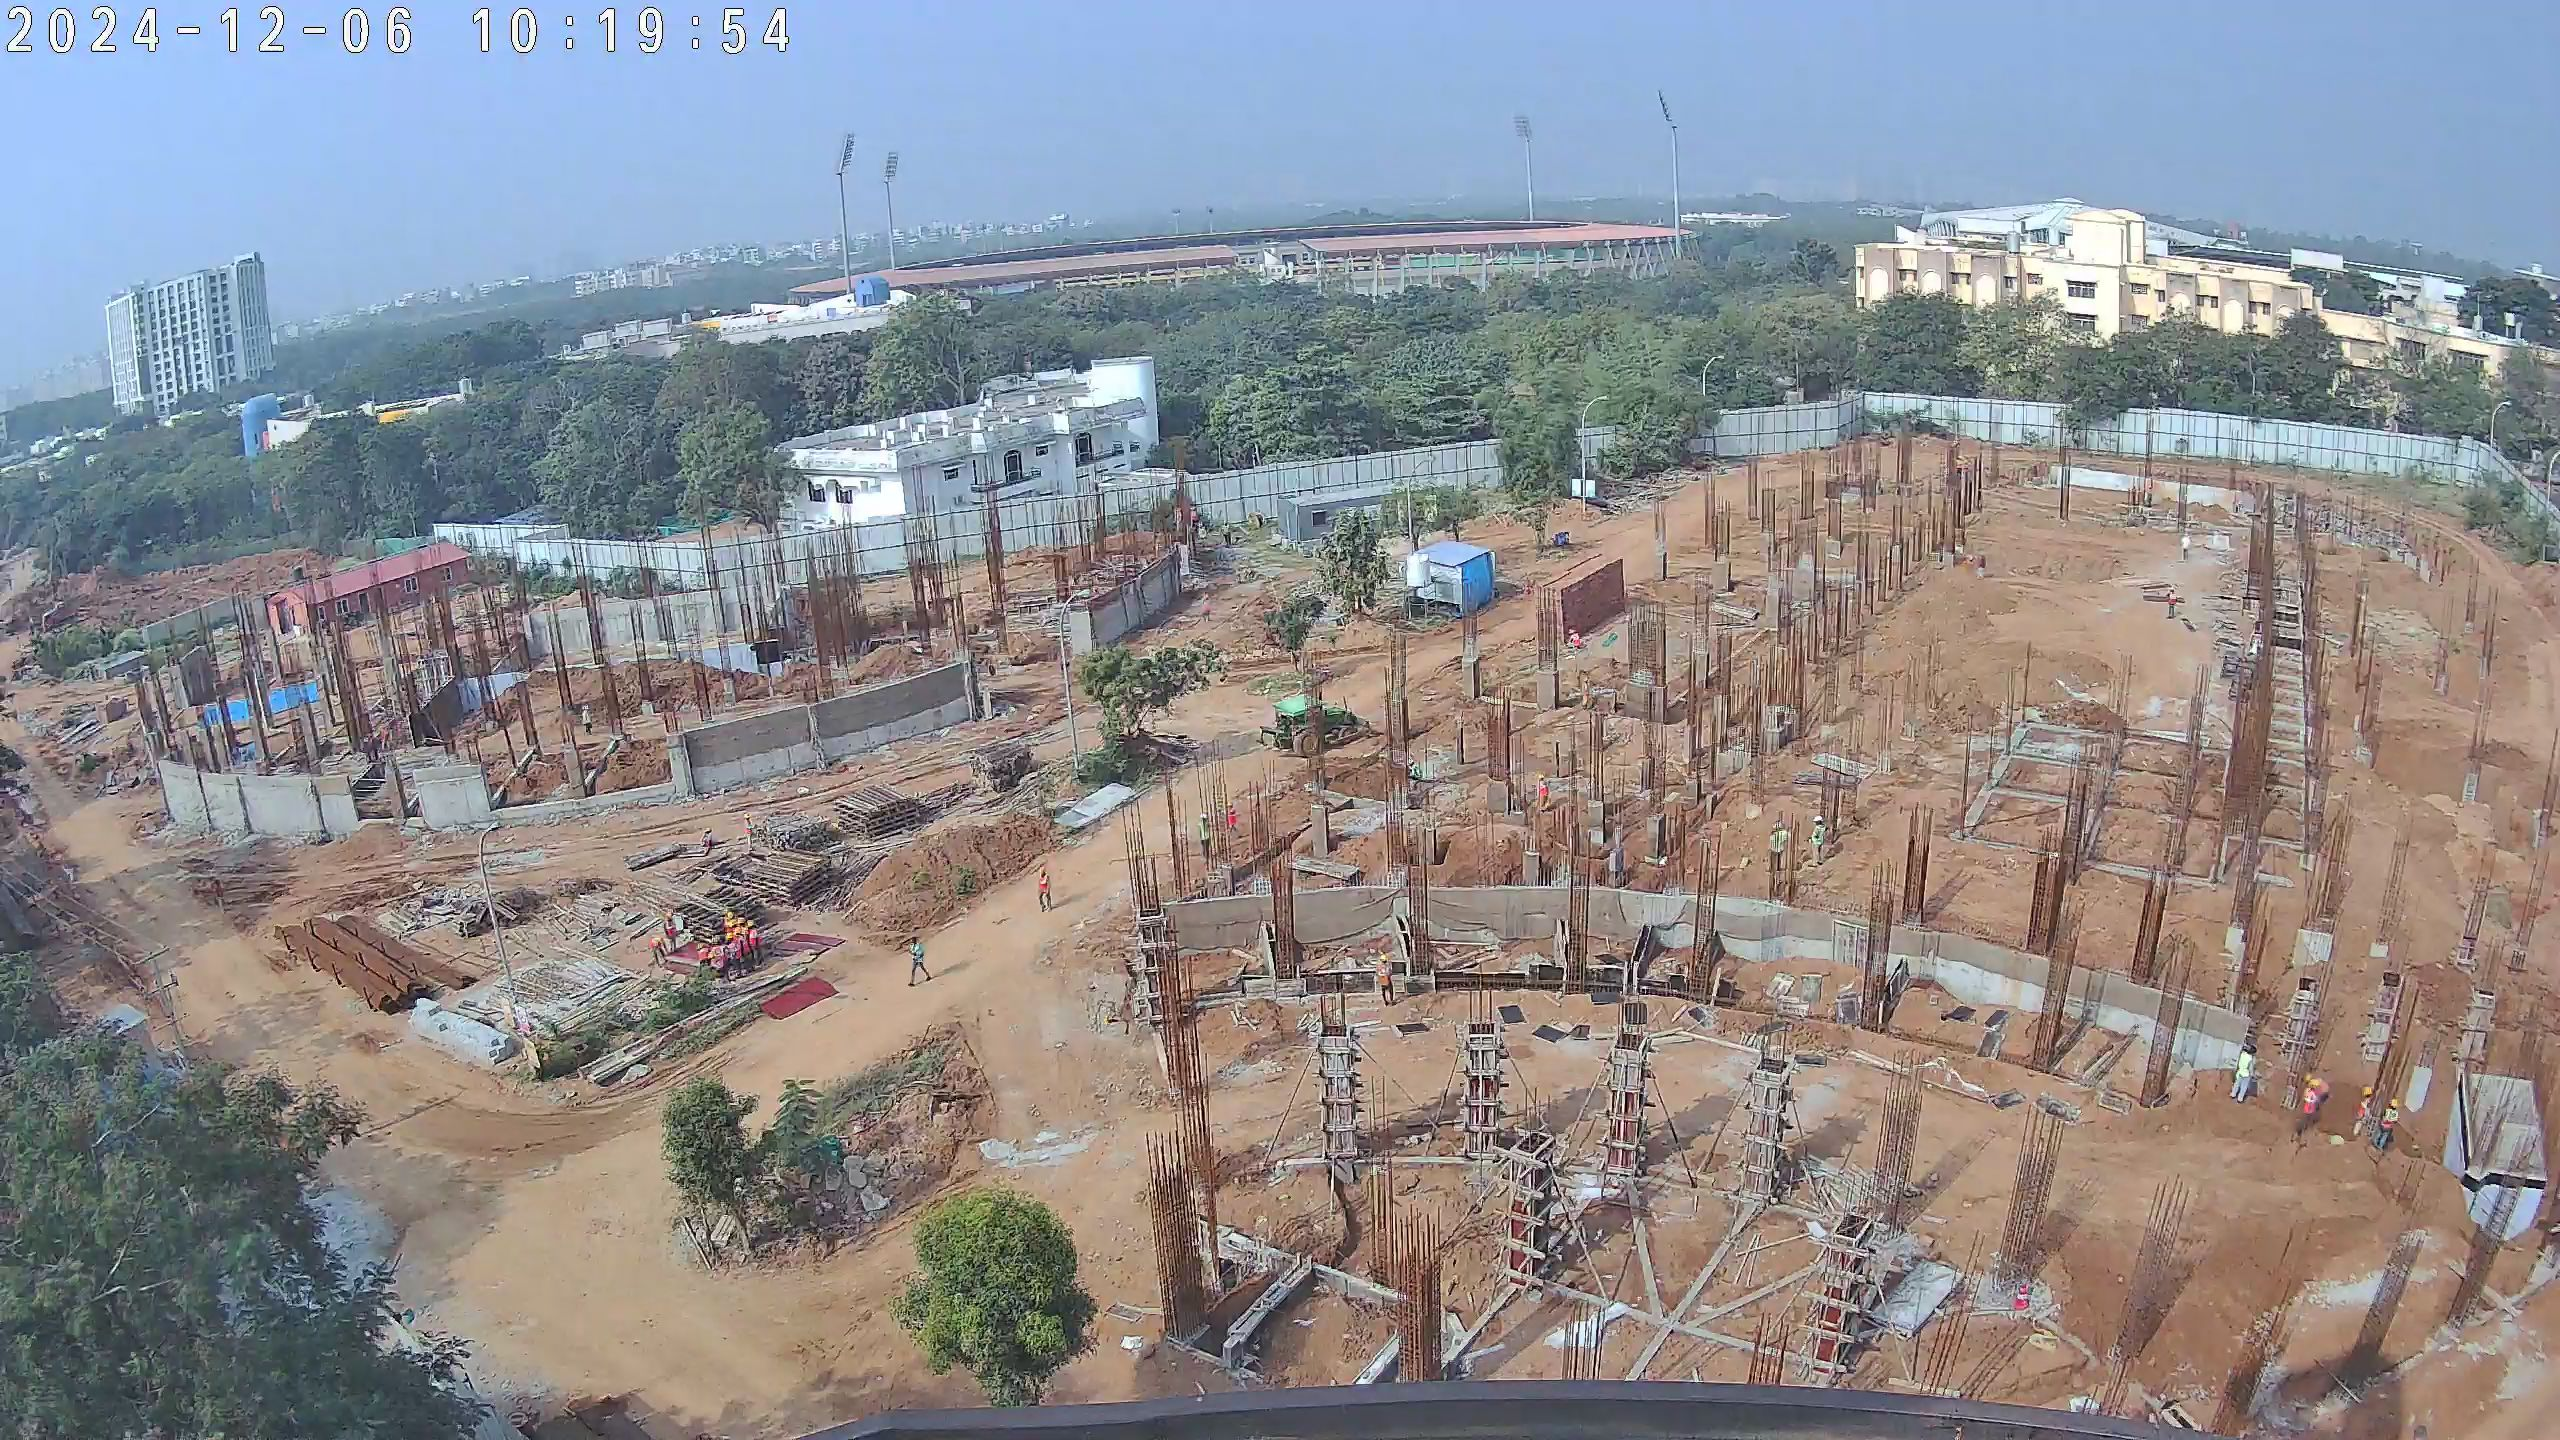bulldozer: (1264, 697, 1366, 754)
worker: (2232, 1037, 2260, 1106), (1372, 947, 1401, 1013), (903, 934, 933, 990), (2350, 1082, 2378, 1141), (2378, 1092, 2403, 1156), (1767, 818, 1793, 876), (2299, 1077, 2324, 1137), (1195, 809, 1217, 862), (730, 924, 755, 970), (1033, 866, 1057, 913), (724, 930, 747, 979), (720, 910, 742, 961), (1802, 812, 1824, 862), (645, 935, 671, 972), (1221, 796, 1243, 838), (735, 915, 753, 966), (660, 909, 681, 952), (744, 919, 764, 964), (691, 938, 712, 980), (2161, 584, 2183, 624), (1563, 624, 1589, 656), (707, 944, 727, 981), (2176, 531, 2196, 566), (1535, 774, 1552, 814), (578, 699, 594, 737), (724, 941, 739, 981), (1199, 595, 1216, 628), (699, 827, 715, 853)
